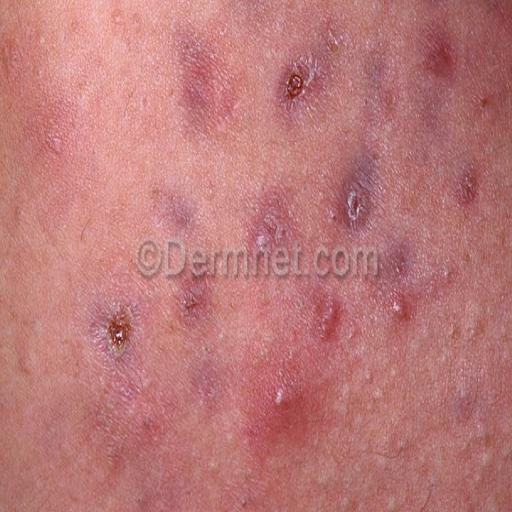Skin_Lesion: (174, 24, 244, 151), (413, 40, 462, 148), (245, 362, 308, 438), (92, 298, 148, 369), (334, 155, 376, 237), (271, 52, 322, 116), (308, 270, 346, 350), (385, 252, 417, 324), (454, 143, 483, 222), (176, 286, 212, 329), (164, 190, 196, 232)
